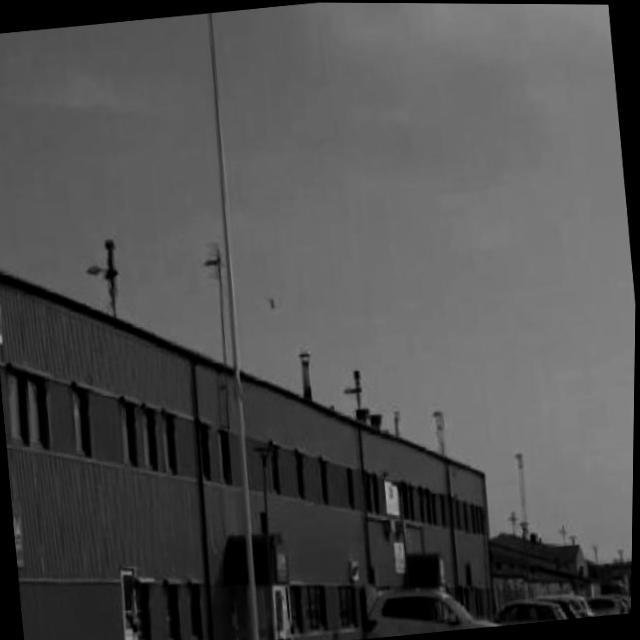helikopter: (254, 285, 283, 317)
